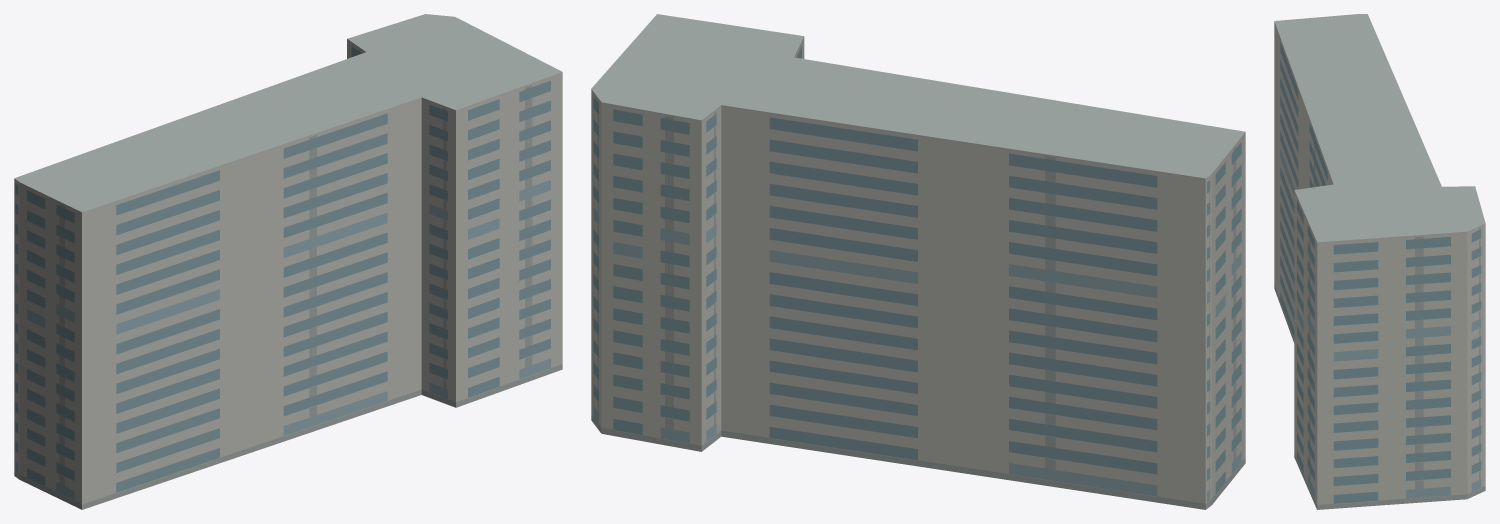
The model's file is residential-4c520262-2776-4abe-a597-e4ee6da63c33.glb.
The picture shows the model from 3 angles, left to right: view 1: azimuth 30°, elevation 25°; view 2: azimuth 150°, elevation 25°; view 3: azimuth 270°, elevation 25°; orthographic projection. The views are drawn at different scales.
Visible parts, largest first — view 1: residential-4c520262-2776-4abe-a597-e4ee6da63c33.tmp; view 2: residential-4c520262-2776-4abe-a597-e4ee6da63c33.tmp; view 3: residential-4c520262-2776-4abe-a597-e4ee6da63c33.tmp.
Boxes of the visible parts, x1,y1,x2,y2 form: residential-4c520262-2776-4abe-a597-e4ee6da63c33.tmp: [14, 14, 562, 509]; residential-4c520262-2776-4abe-a597-e4ee6da63c33.tmp: [591, 14, 1245, 509]; residential-4c520262-2776-4abe-a597-e4ee6da63c33.tmp: [1274, 14, 1485, 509].
Size of the model in its own units: 73.23 by 40 by 28.63.
